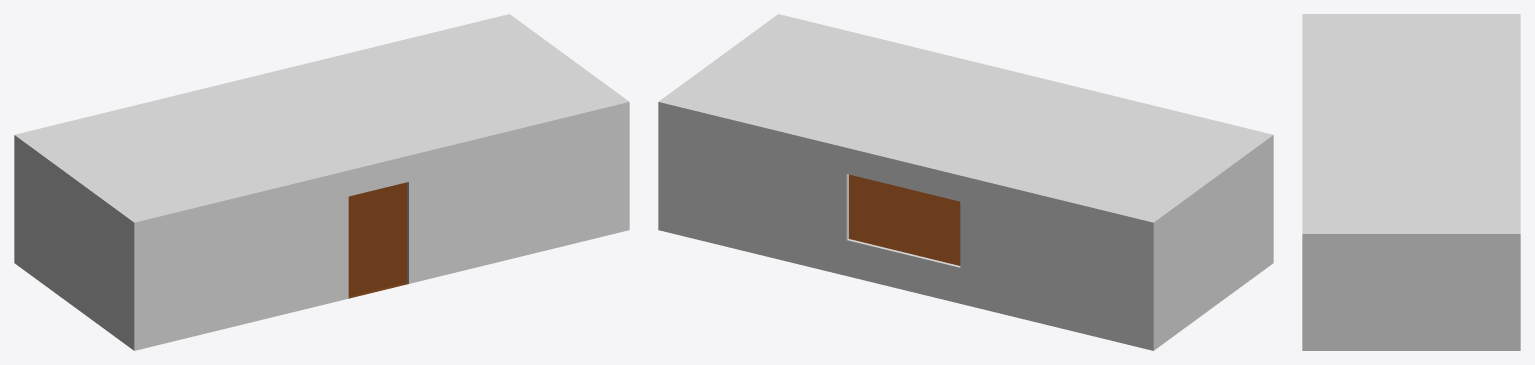
The model's file is main_house.glb.
The picture shows the model from 3 angles, left to right: view 1: azimuth 30°, elevation 25°; view 2: azimuth 150°, elevation 25°; view 3: azimuth 270°, elevation 25°; orthographic projection. The views are drawn at different scales.
Parts seen in each view (by area): view 1: Cube; view 2: Cube; view 3: Cube.
Boxes of the visible parts, x1,y1,x2,y2 form: Cube: [14, 14, 629, 350]; Cube: [658, 14, 1273, 350]; Cube: [1302, 14, 1520, 350].
Size of the model in its own units: 4.22 by 1.04 by 1.77.
